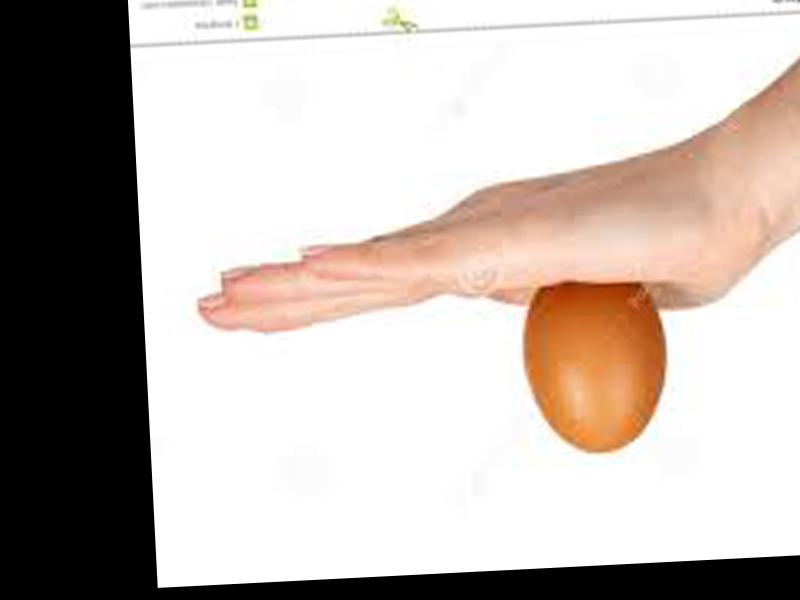Eggs: (519, 274, 667, 455)
